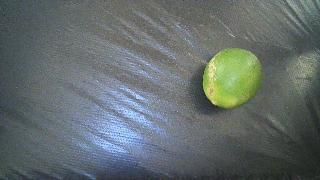DESECHO: (203, 48, 263, 109)
